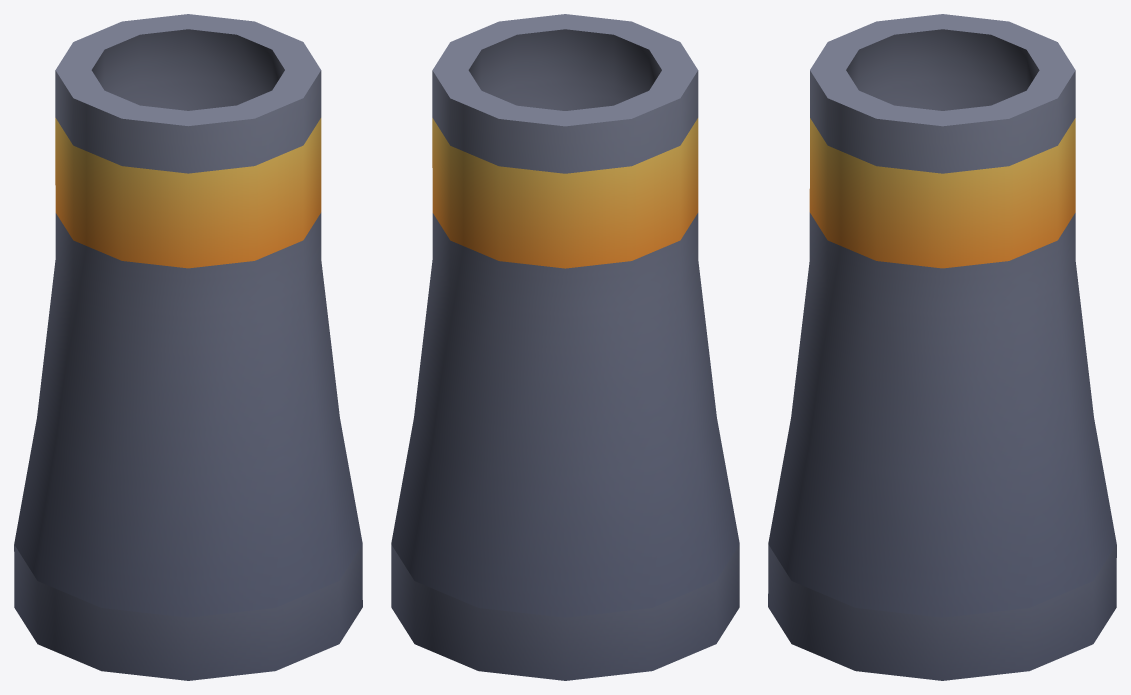
The model's file is chimney-large_lev1.glb.
The picture shows the model from 3 angles, left to right: view 1: azimuth 30°, elevation 25°; view 2: azimuth 150°, elevation 25°; view 3: azimuth 270°, elevation 25°; orthographic projection.
Visible parts, largest first — view 1: chimney-large_lev1; view 2: chimney-large_lev1; view 3: chimney-large_lev1.
Boxes of the visible parts, bbox=[...] form: chimney-large_lev1: bbox=[14, 14, 362, 680]; chimney-large_lev1: bbox=[391, 14, 739, 680]; chimney-large_lev1: bbox=[768, 14, 1116, 680].
Bounding box in the file's own units: 1 × 1.7 × 1.
1 material, 1 textured.
